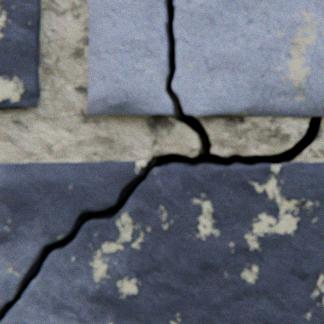brick: (0, 0, 42, 109)
broken_brick: (1, 161, 323, 323), (0, 160, 148, 310), (173, 0, 323, 116), (88, 0, 175, 115)
crack: (0, 0, 322, 323)
